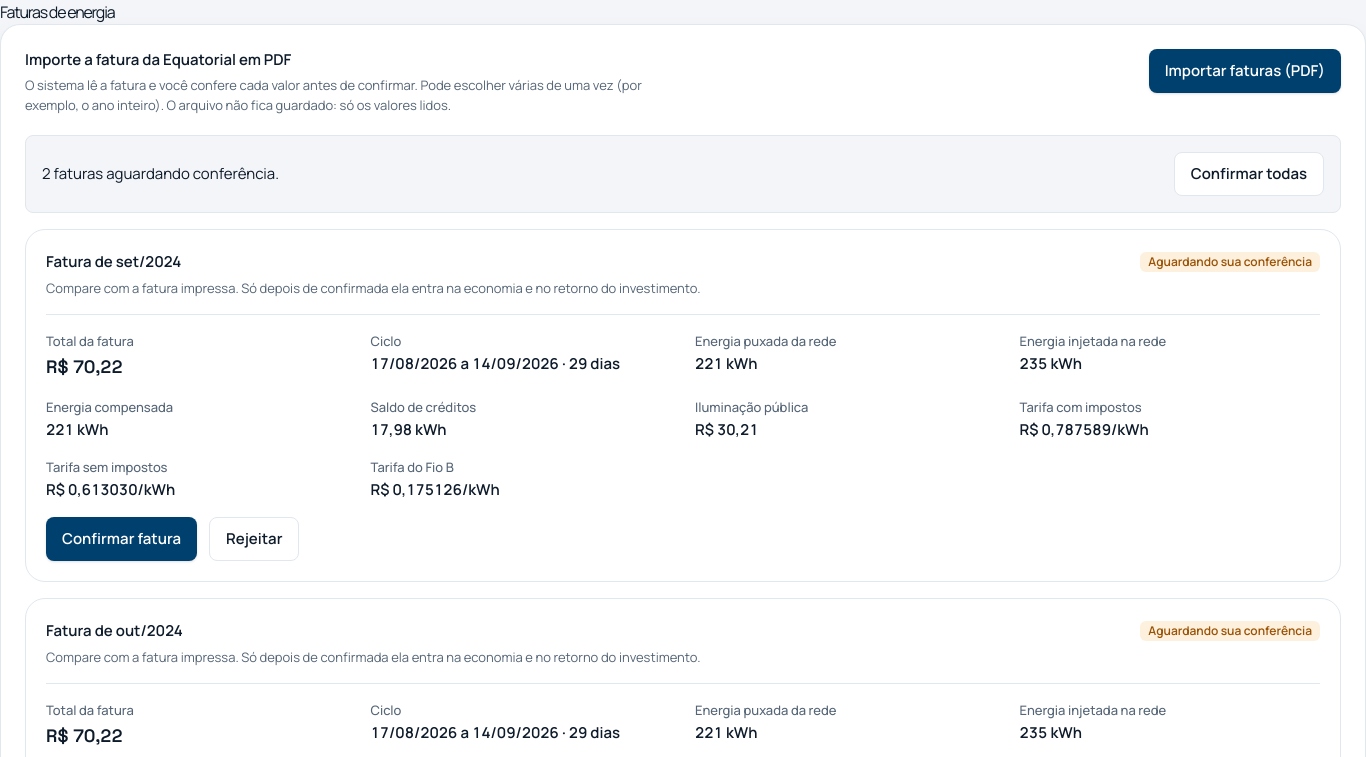
Test: BillsSection — importar e conferir faturas › confirmar todas pede uma segunda confirmação e confirma cada fatura
The image size is (1366, 757).
Click the button "Confirmar todas".
click(1249, 174)  # box [1174,152,1324,196]
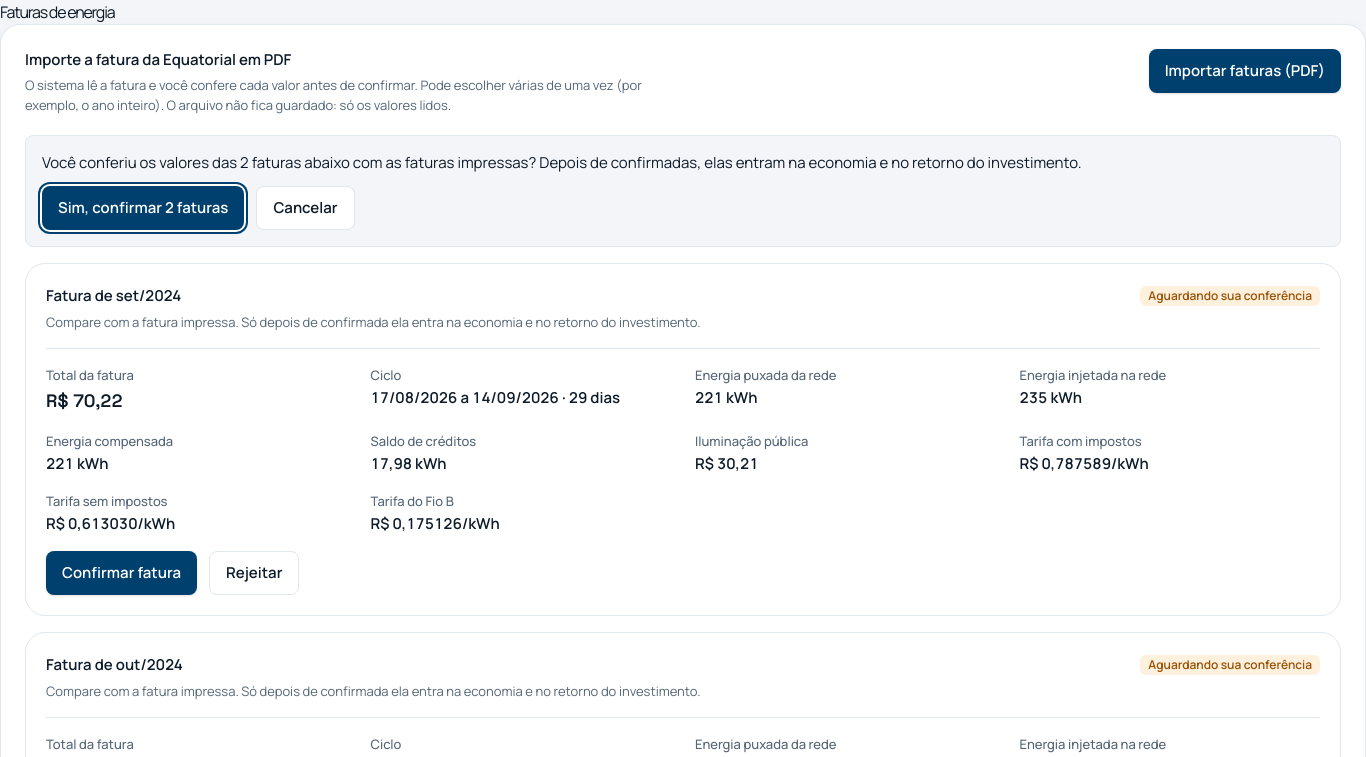
Click the button "Sim, confirmar 2 faturas".
click(143, 208)  # box [42,186,244,230]
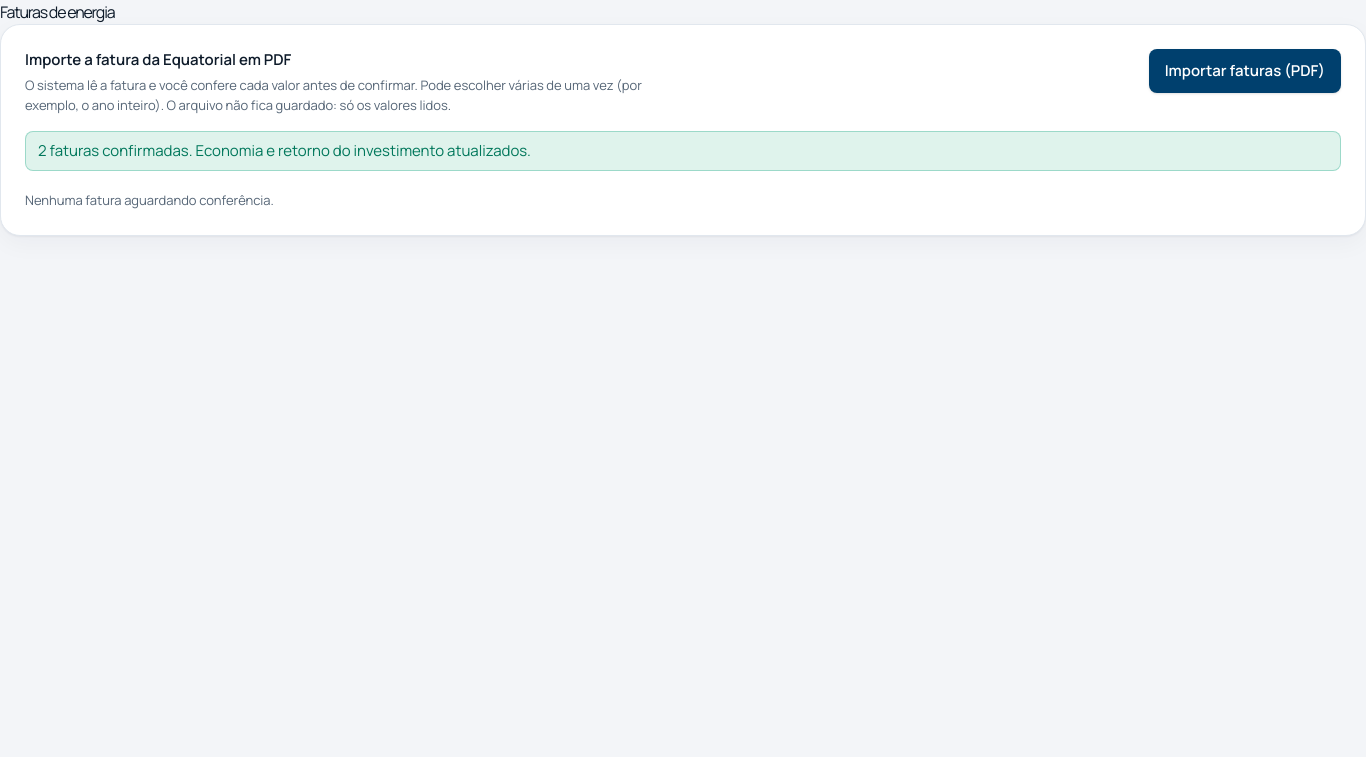
Check: the text "2 faturas confirmadas. Economia e retorno do investimento atualizados." is shown, box [25,131,1341,171]
